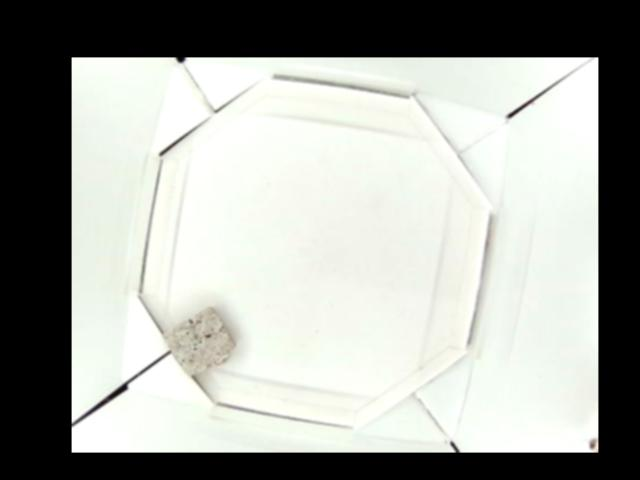China: (162, 306, 234, 376)
